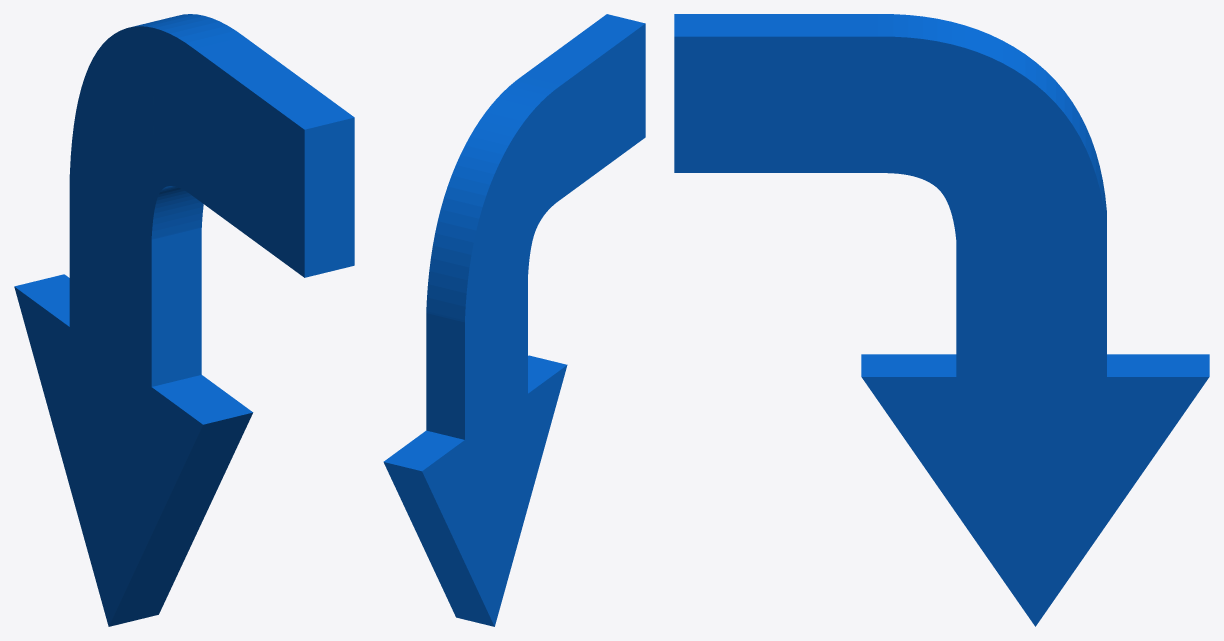
File: RLab-arrow-turned.gltf
3 views of the same model, side by side, from view 1: azimuth 30°, elevation 25°; view 2: azimuth 150°, elevation 25°; view 3: azimuth 270°, elevation 25° (orthographic). The views are drawn at different scales.
Parts seen in each view (by area): view 1: node-0; view 2: node-0; view 3: node-0.
Part boxes in pixels (left/top/right/bottom): node-0: left=14, top=14, right=354, bottom=626; node-0: left=383, top=14, right=645, bottom=626; node-0: left=674, top=14, right=1209, bottom=626.
Bounding box in the file's own units: 0.05 × 0.6096 × 0.5008.
